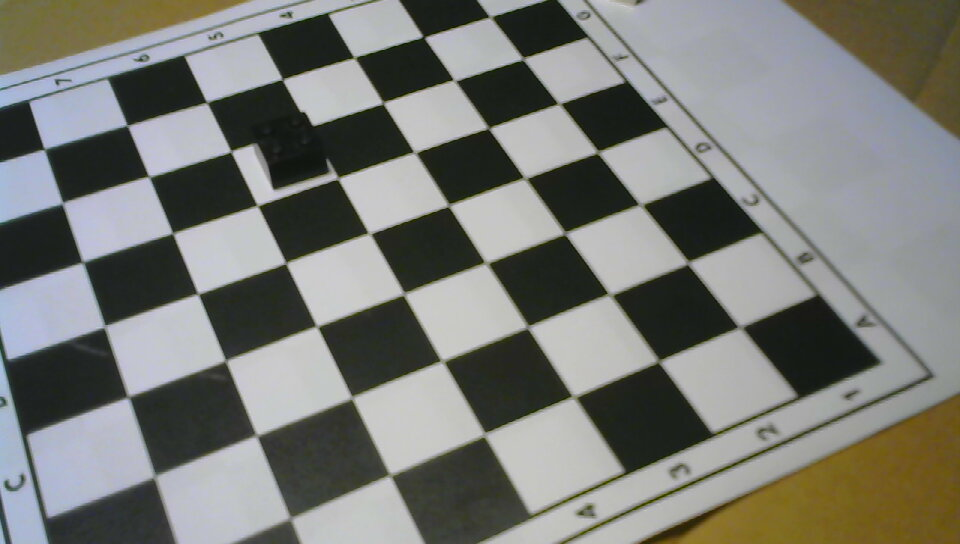bp: (254, 112, 328, 189)
